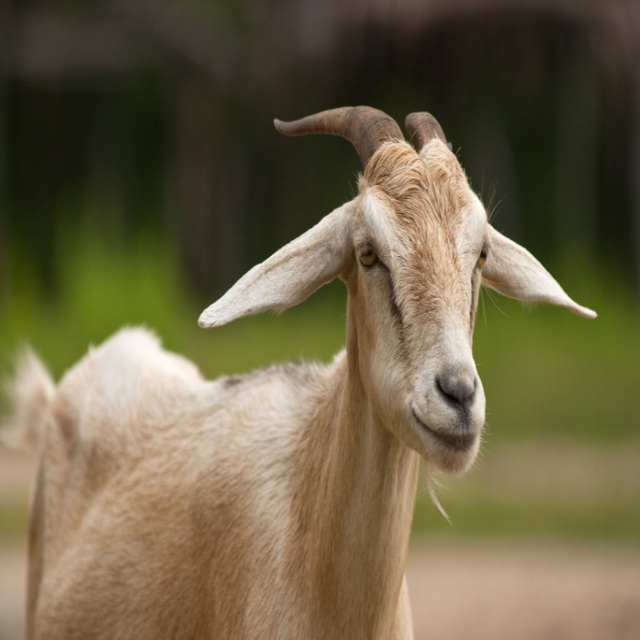Goat: (9, 103, 596, 639)
